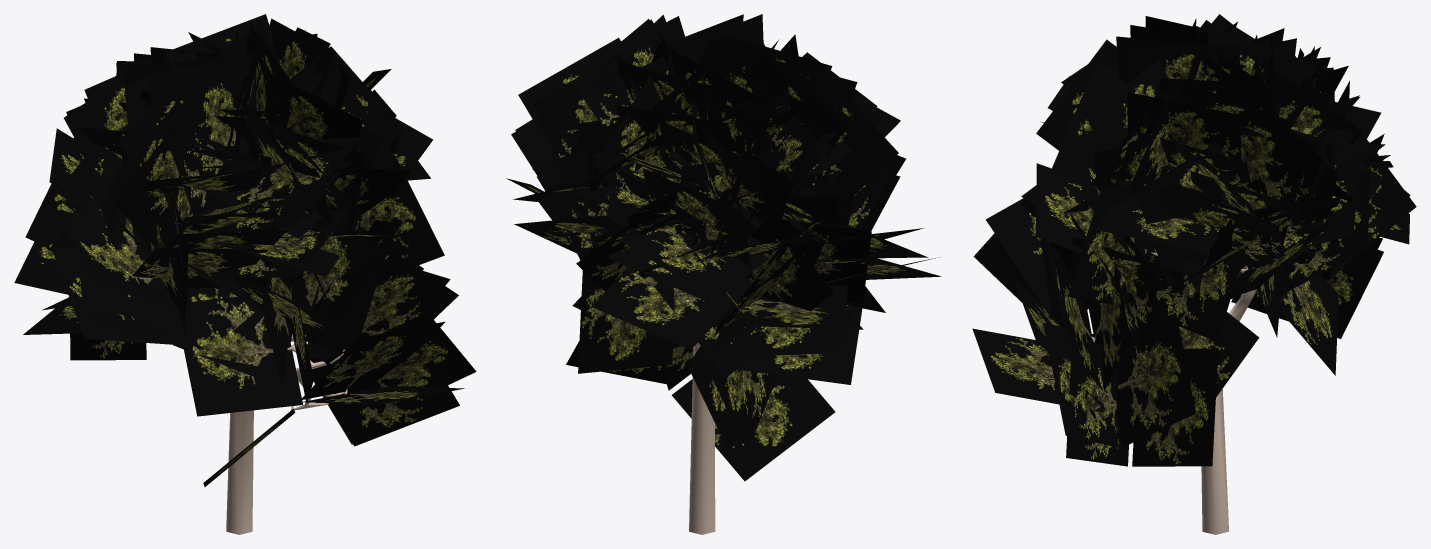
File: tree_one.glb
The picture shows the model from 3 angles, left to right: view 1: azimuth 30°, elevation 25°; view 2: azimuth 150°, elevation 25°; view 3: azimuth 270°, elevation 25°; orthographic projection.
Bounding box in the file's own units: 5.58 × 6.85 × 5.52.
Materials: 2 (1 with a texture image).
